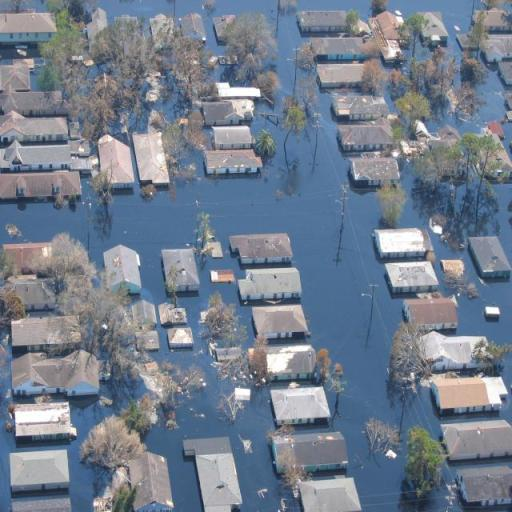flood: (0, 94, 438, 512), (402, 194, 512, 345), (204, 0, 330, 124), (0, 377, 112, 512), (413, 178, 512, 262), (390, 0, 485, 67), (431, 67, 512, 132), (297, 0, 371, 19), (97, 0, 174, 18), (175, 0, 201, 16), (417, 47, 432, 59)
house: (12, 350, 100, 404), (188, 436, 242, 510), (270, 428, 347, 476), (430, 374, 508, 421), (8, 447, 70, 500), (2, 112, 74, 154), (11, 398, 71, 448), (268, 382, 332, 428), (454, 461, 511, 512), (292, 473, 365, 512), (444, 419, 510, 462), (9, 313, 83, 351), (422, 329, 490, 370), (226, 232, 298, 270), (130, 452, 174, 512), (373, 224, 434, 264), (252, 302, 309, 344), (240, 262, 300, 301), (159, 242, 201, 296), (471, 231, 512, 285), (261, 342, 318, 380), (0, 8, 57, 46), (104, 244, 144, 298), (134, 131, 172, 186), (4, 275, 56, 315), (332, 92, 393, 126), (404, 294, 458, 332), (99, 133, 134, 191), (368, 8, 406, 60), (202, 148, 262, 180), (348, 154, 400, 190), (314, 56, 372, 88), (338, 122, 394, 152), (199, 97, 255, 125), (4, 240, 48, 274), (312, 36, 365, 60), (416, 10, 448, 48), (0, 59, 34, 93), (298, 10, 348, 32), (212, 124, 252, 150), (473, 8, 512, 32), (211, 80, 259, 98), (484, 34, 510, 64), (166, 326, 193, 354), (182, 12, 208, 40), (134, 300, 158, 330), (486, 118, 510, 140)
